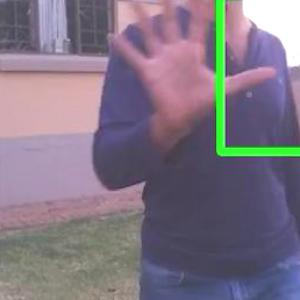follow_hand: (102, 0, 279, 133)
